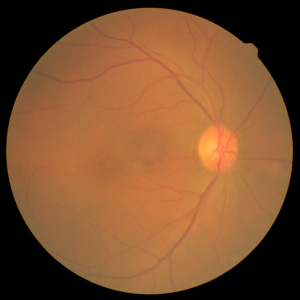cataract: (67, 84, 267, 203)
